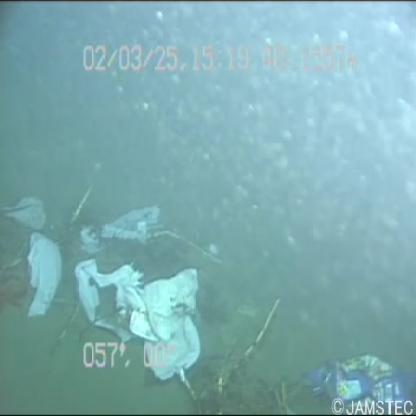Rác: (70, 200, 203, 377), (4, 181, 58, 333)
